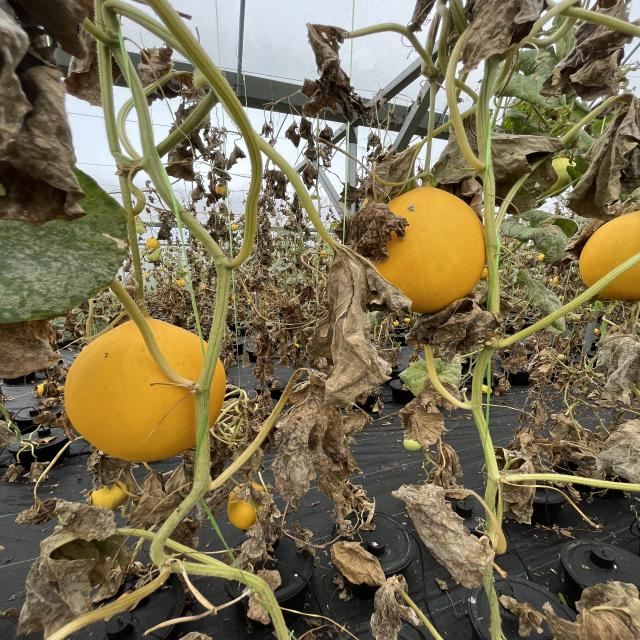bacterial wilt: (17, 492, 117, 633), (280, 376, 376, 506), (402, 482, 479, 581), (589, 90, 640, 232), (322, 265, 381, 375), (451, 0, 547, 61), (290, 16, 352, 97), (573, 326, 640, 397), (336, 206, 415, 264), (324, 526, 395, 586), (570, 26, 635, 81), (404, 389, 456, 454), (365, 576, 417, 640), (496, 409, 543, 473), (594, 424, 640, 471), (421, 146, 464, 196), (368, 154, 412, 197)
powdery mildew: (0, 208, 126, 340)
